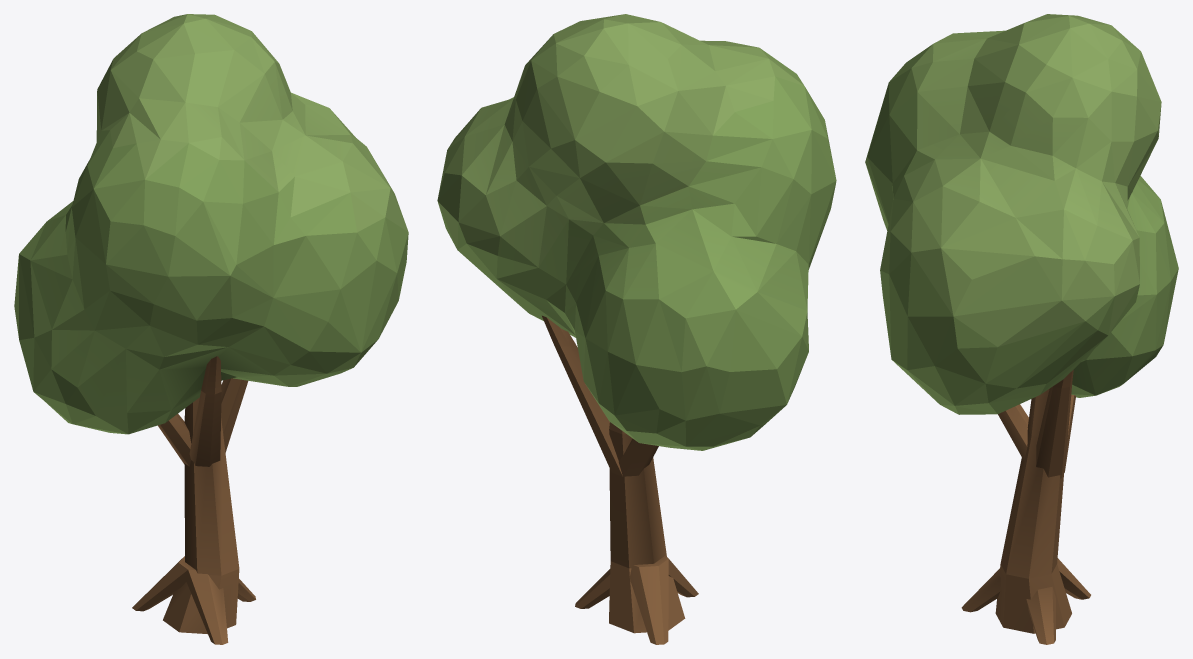
File: grove-sculpt-2.glb
3 renders of one model, left to right at view 1: azimuth 30°, elevation 25°; view 2: azimuth 150°, elevation 25°; view 3: azimuth 270°, elevation 25°, orthographic. The views are drawn at different scales.
Parts seen in each view (by area): view 1: Icosphere, Branch, Branch.003, Branch.006, Branch.001, Branch.005, Branch.002; view 2: Icosphere, Branch, Branch.001, Branch.005, Branch.002, Branch.004; view 3: Icosphere, Branch, Branch.001, Branch.004, Branch.003, Branch.006, Branch.005.
Boxes of the visible parts, bbox=[...] form: Icosphere: bbox=[14, 14, 408, 434]; Branch: bbox=[163, 397, 239, 634]; Branch.003: bbox=[189, 356, 221, 466]; Branch.006: bbox=[185, 569, 228, 644]; Branch.001: bbox=[221, 378, 248, 452]; Branch.005: bbox=[132, 559, 187, 611]; Branch.002: bbox=[158, 414, 191, 466]; Icosphere: bbox=[437, 14, 836, 450]; Branch: bbox=[609, 422, 685, 633]; Branch.001: bbox=[542, 315, 622, 476]; Branch.005: bbox=[629, 559, 668, 644]; Branch.002: bbox=[618, 438, 658, 476]; Branch.004: bbox=[575, 555, 668, 608]; Icosphere: bbox=[865, 14, 1178, 414]; Branch: bbox=[995, 389, 1071, 633]; Branch.001: bbox=[1036, 370, 1073, 478]; Branch.004: bbox=[1026, 586, 1055, 644]; Branch.003: bbox=[998, 404, 1028, 460]; Branch.006: bbox=[961, 568, 1000, 612]; Branch.005: bbox=[1057, 558, 1090, 599].
Size of the model in its own units: 1.17 by 1.94 by 0.9179.
